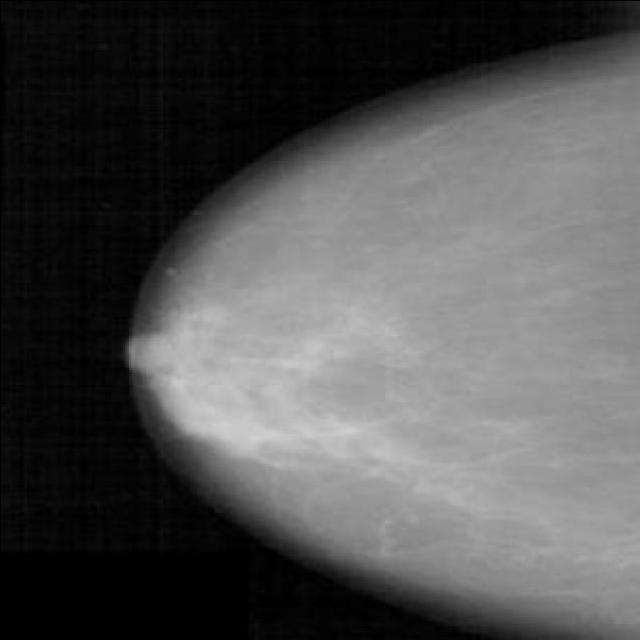tumor: (156, 291, 294, 479)
